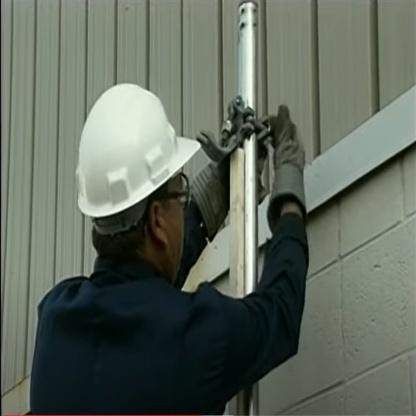helmet: (73, 73, 199, 293)
